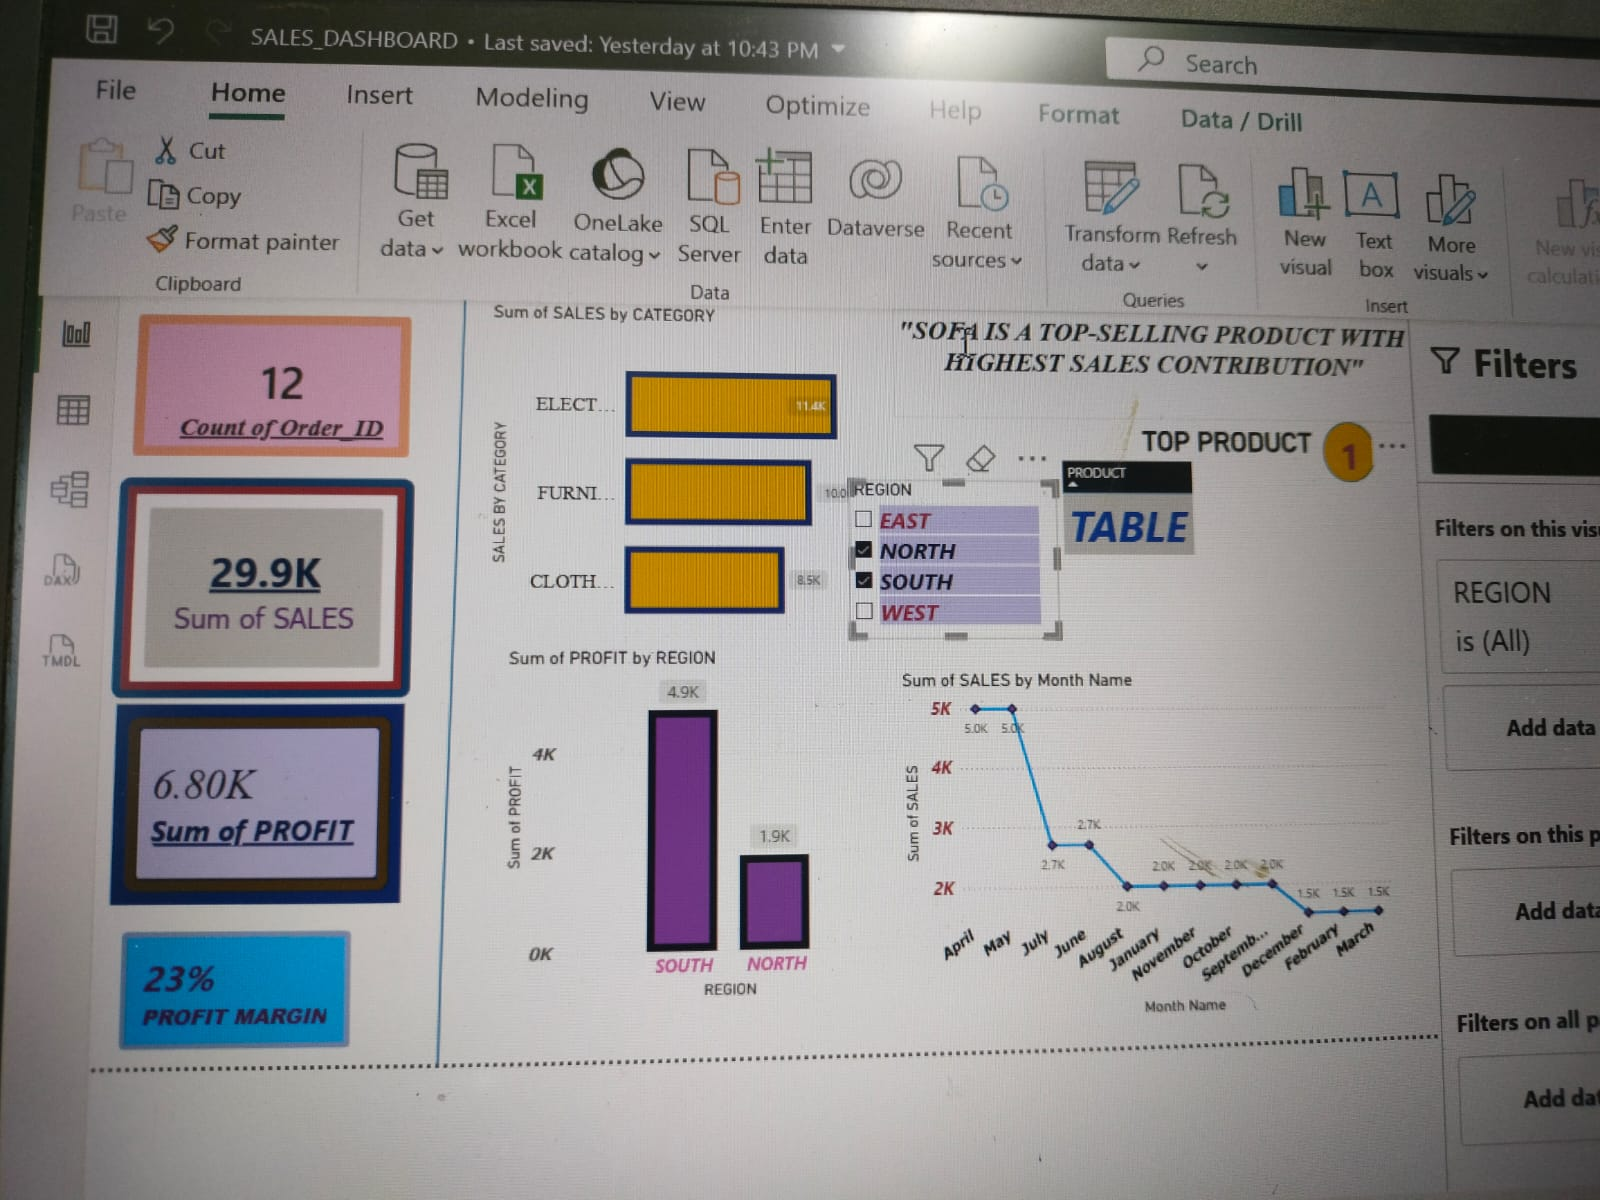

The page's visual inventory and layout, read from the dashboard file:
{"tool":"powerbi","page":{"name":"SALES ","canvas":[1280,720],"ordinal":0},"visuals":[{"type":"cardVisual","fields":{"Data":["Sum(Sheet1.SALES)"]},"box":[10,176,274,208],"z":0},{"type":"cardVisual","fields":{"Data":["Sum(Sheet1.PROFIT)"]},"box":[10,384,274,194],"z":1},{"type":"cardVisual","fields":{"Data":["CountNonNull(Sheet1.Order_ID)"]},"box":[2,0,292,172],"z":2},{"type":"cardVisual","fields":{"Data":["Sheet1.PROFIT MARGIN"]},"box":[10,580,242,140],"z":3},{"type":"shape","box":[252,0,140,720],"z":4},{"type":"clusteredBarChart","fields":{"Category":["Sheet1.CATEGORY"],"Y":["Sum(Sheet1.SALES)"]},"box":[350,0,394,384],"z":5},{"type":"clusteredColumnChart","fields":{"Category":["Sheet1.REGION"],"Y":["Sum(Sheet1.PROFIT)"]},"box":[368,336,376,334],"z":6},{"type":"lineChart","fields":{"Category":["Sheet1.Month Name"],"Y":["Sum(Sheet1.SALES)"]},"box":[744,360,494,336],"z":7},{"type":"listSlicer","fields":{"Values":["Sheet1.REGION"]},"box":[700,172,208,156],"z":8},{"type":"tableEx","title":"TOP PRODUCT","fields":{"Values":["Sheet1.PRODUCT"]},"box":[908,116,350,212],"z":9},{"type":"shape","box":[1182,110,56,62],"z":10},{"type":"textbox","box":[744,0,536,110],"z":11}]}

Visuals, with their boxes on the page's 1280x720 design canvas (x1, y1, x2, y2). These are canvas units, not pixel positions in the 1600x1200 screenshot, which may show the page scaled, cropped or inside an application window:
cardVisual - Sum(Sheet1.SALES): <region>10, 176, 284, 384</region>
cardVisual - Sum(Sheet1.PROFIT): <region>10, 384, 284, 578</region>
cardVisual - CountNonNull(Sheet1.Order_ID): <region>2, 0, 294, 172</region>
cardVisual - Sheet1.PROFIT MARGIN: <region>10, 580, 252, 720</region>
shape: <region>252, 0, 392, 720</region>
clusteredBarChart - Sheet1.CATEGORY x Sum(Sheet1.SALES): <region>350, 0, 744, 384</region>
clusteredColumnChart - Sheet1.REGION x Sum(Sheet1.PROFIT): <region>368, 336, 744, 670</region>
lineChart - Sheet1.Month Name x Sum(Sheet1.SALES): <region>744, 360, 1238, 696</region>
listSlicer - Sheet1.REGION: <region>700, 172, 908, 328</region>
"TOP PRODUCT" tableEx: <region>908, 116, 1258, 328</region>
shape: <region>1182, 110, 1238, 172</region>
textbox: <region>744, 0, 1280, 110</region>
